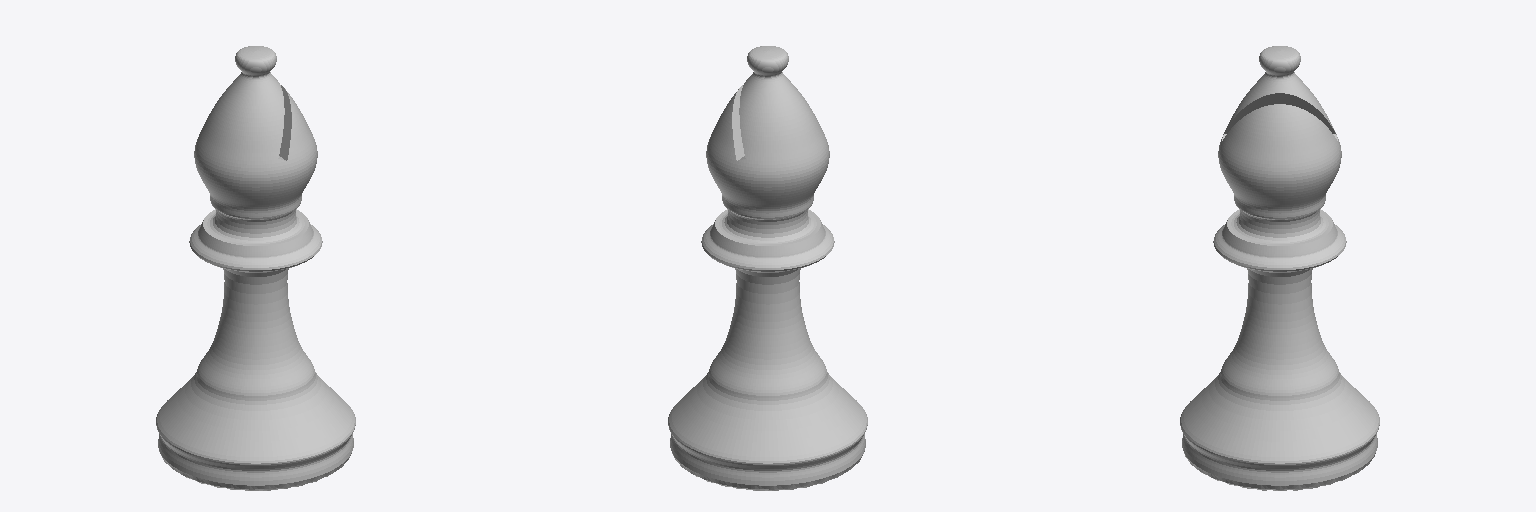
File: bishop2white.obj
3 renders of one model, left to right at view 1: azimuth 30°, elevation 25°; view 2: azimuth 150°, elevation 25°; view 3: azimuth 270°, elevation 25°, orthographic.
Parts seen in each view (by area): view 1: Cylinder; view 2: Cylinder; view 3: Cylinder.
Part boxes in pixels (bbox=[...]): Cylinder: bbox=[156, 46, 355, 490]; Cylinder: bbox=[668, 46, 867, 490]; Cylinder: bbox=[1180, 46, 1379, 490].
Size of the model in its own units: 2.02 by 4.58 by 2.02.